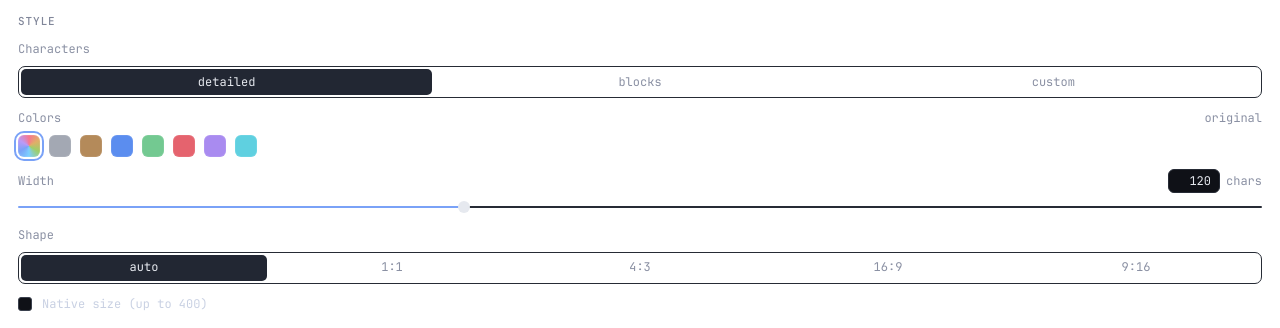
Test: StylePanel width › keeps a typed width within limits
Replace the text in the number field named "Width in characters" with "5000": (1194, 181) [1168,169,1220,193]
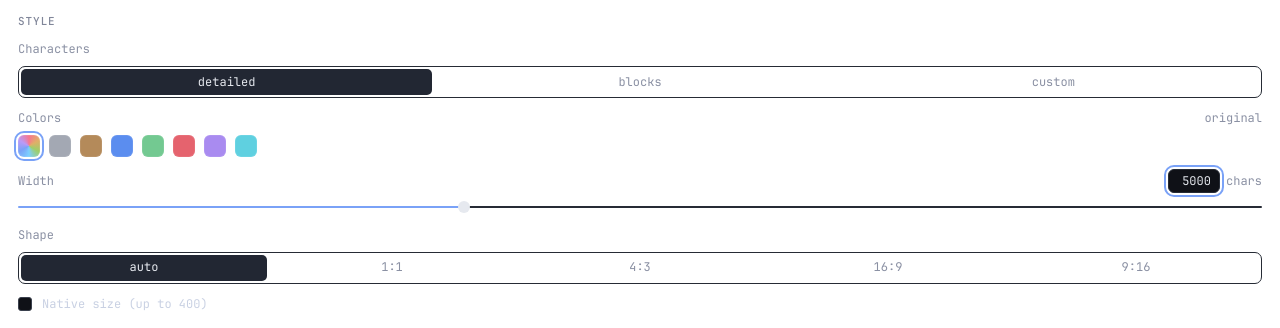
Press Tab
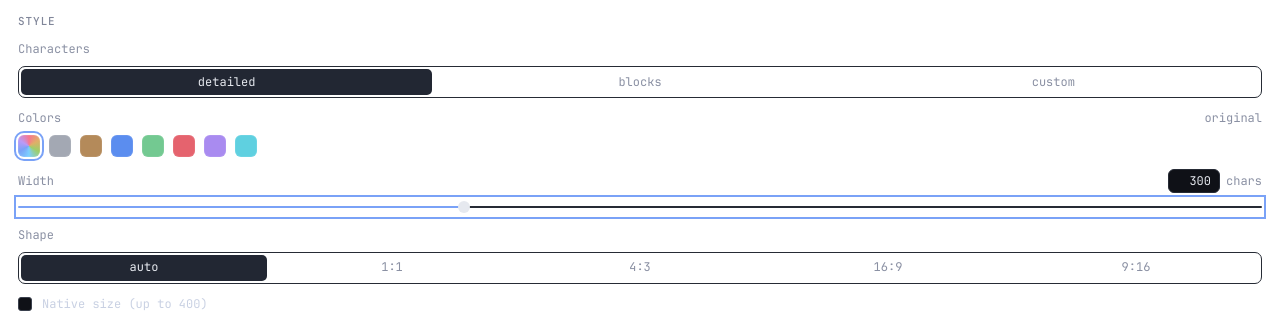
Now the number field named "Width in characters" holds "300", box [1168,169,1220,193]
